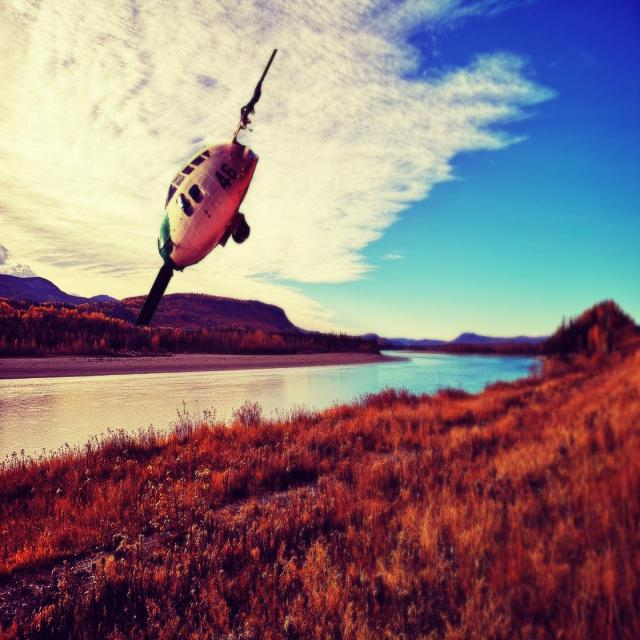airplane: (133, 47, 278, 326)
